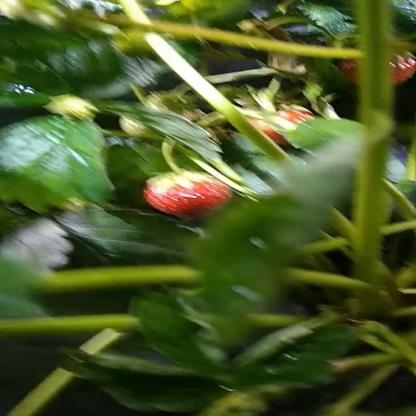ripe: (140, 170, 242, 219), (236, 102, 324, 154), (339, 42, 416, 89)
unripe: (119, 94, 204, 140)
